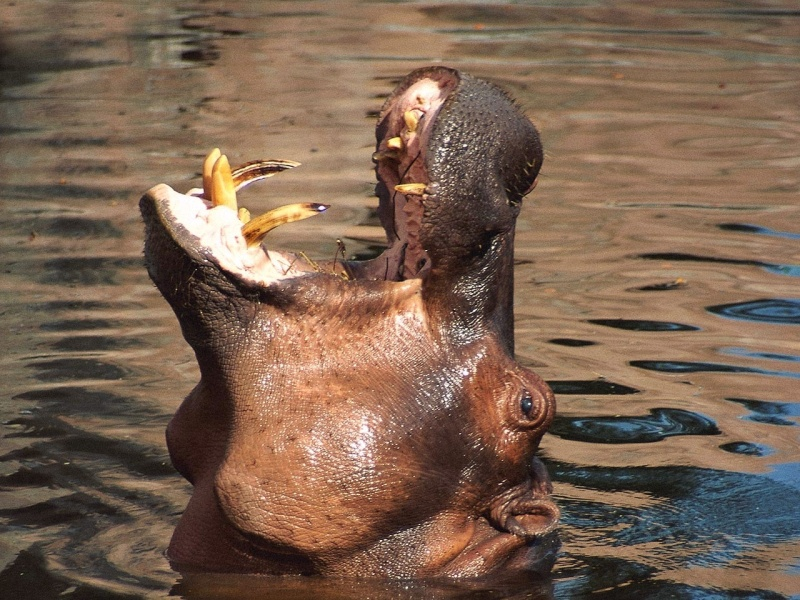hipopotamo: (121, 60, 581, 578)
